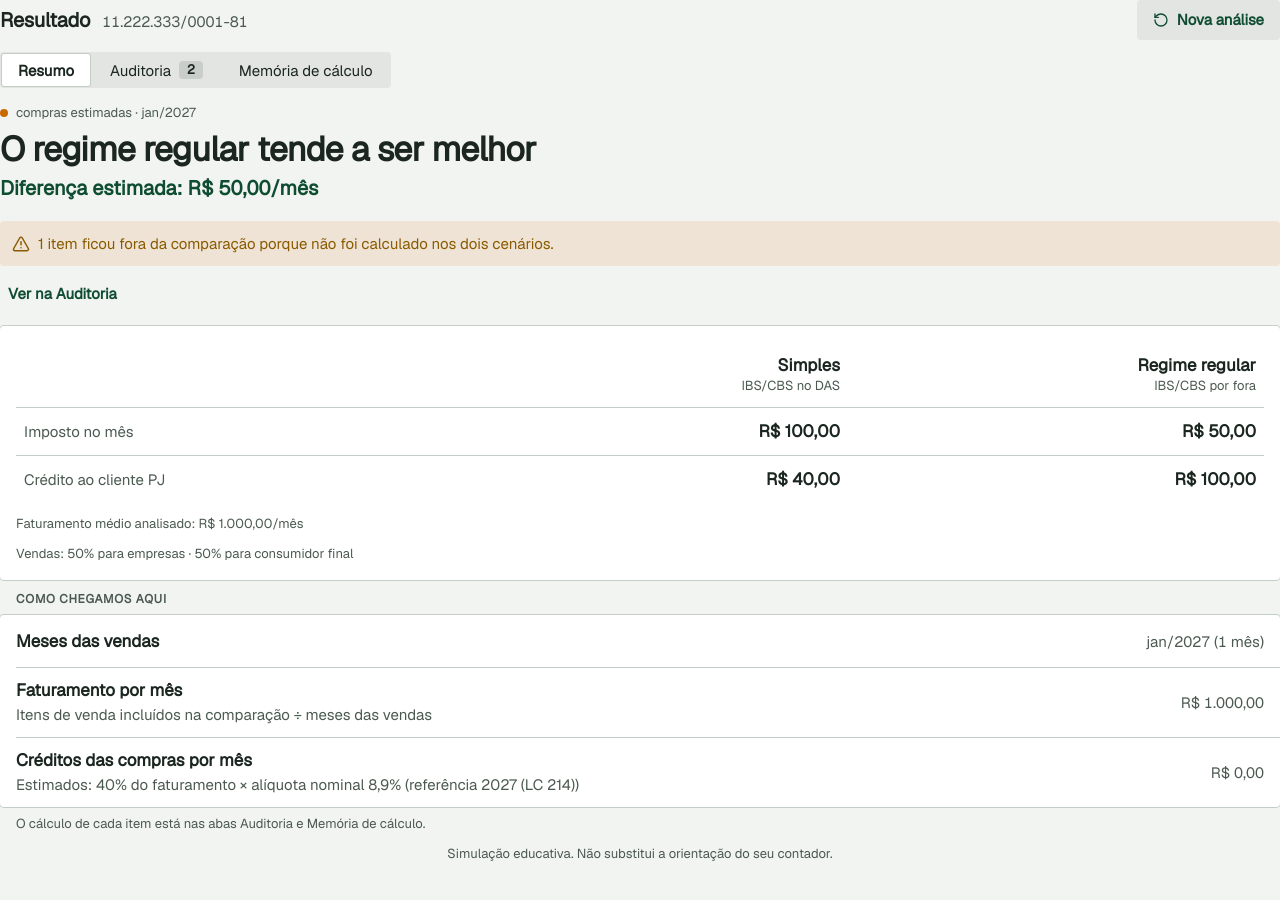
Scenario: Resultado › aba Auditoria mostra a tabela com a contagem real e troca de painel
The image size is (1280, 900).
Click the tab "Auditoria 2" at (156, 70), box [94, 54, 219, 86]
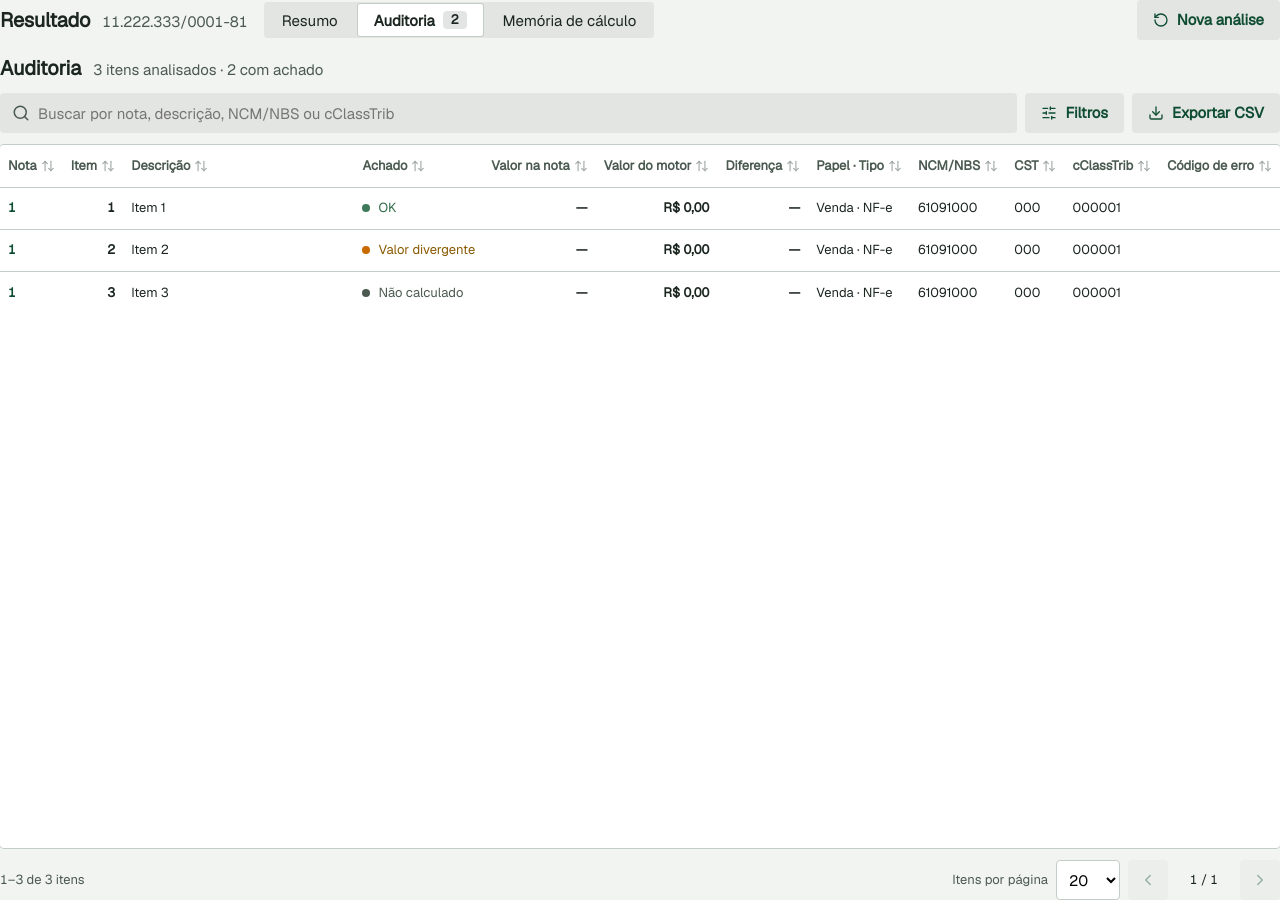
Expected: the panel shows "3 itens analisados", [93, 60, 323, 79]
Expected: the panel shows "2 com achado", [93, 60, 323, 79]
Expected: the number of rows is 4, [0, 145, 1279, 188]; [0, 188, 1279, 230]; [0, 230, 1279, 272]; [0, 272, 1279, 314]
